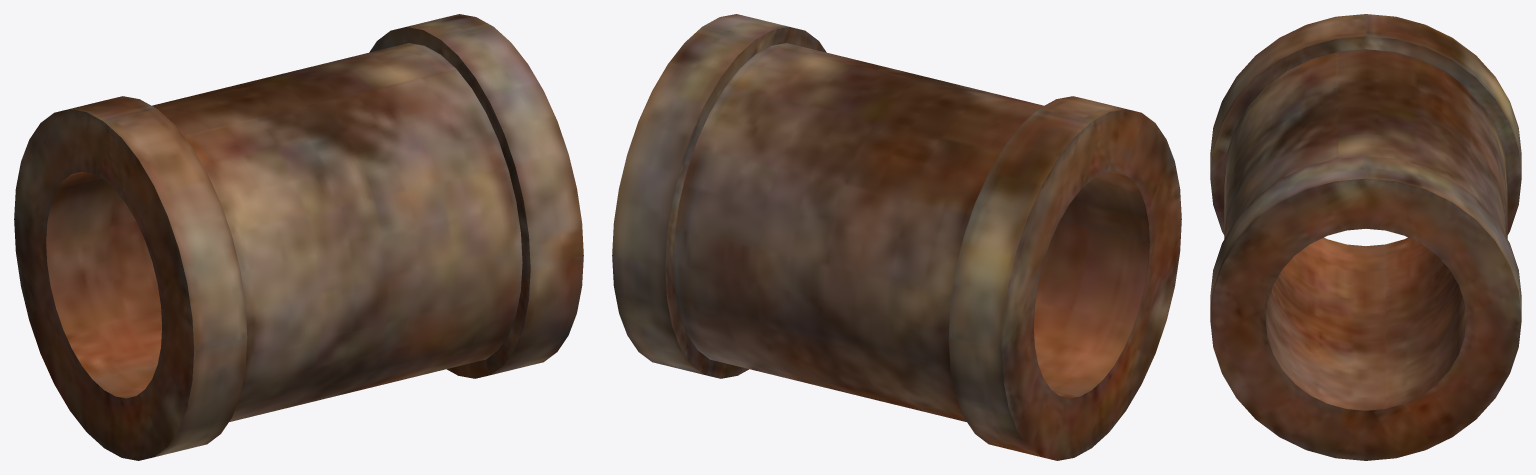
Rendered from old_pipe_04.glb.
The picture shows the model from 3 angles, left to right: view 1: azimuth 30°, elevation 25°; view 2: azimuth 150°, elevation 25°; view 3: azimuth 270°, elevation 25°; orthographic projection. The views are drawn at different scales.
Parts seen in each view (by area): view 1: old_pipe_04; view 2: old_pipe_04; view 3: old_pipe_04.
Part boxes in pixels (x1=…): old_pipe_04: x1=14, y1=14, x2=583, y2=460; old_pipe_04: x1=612, y1=14, x2=1181, y2=460; old_pipe_04: x1=1210, y1=14, x2=1521, y2=460.
Size of what is drawn, in the model's own units: 0.1054 by 0.0843 by 0.0843.
Materials: 1 (1 with a texture image).
